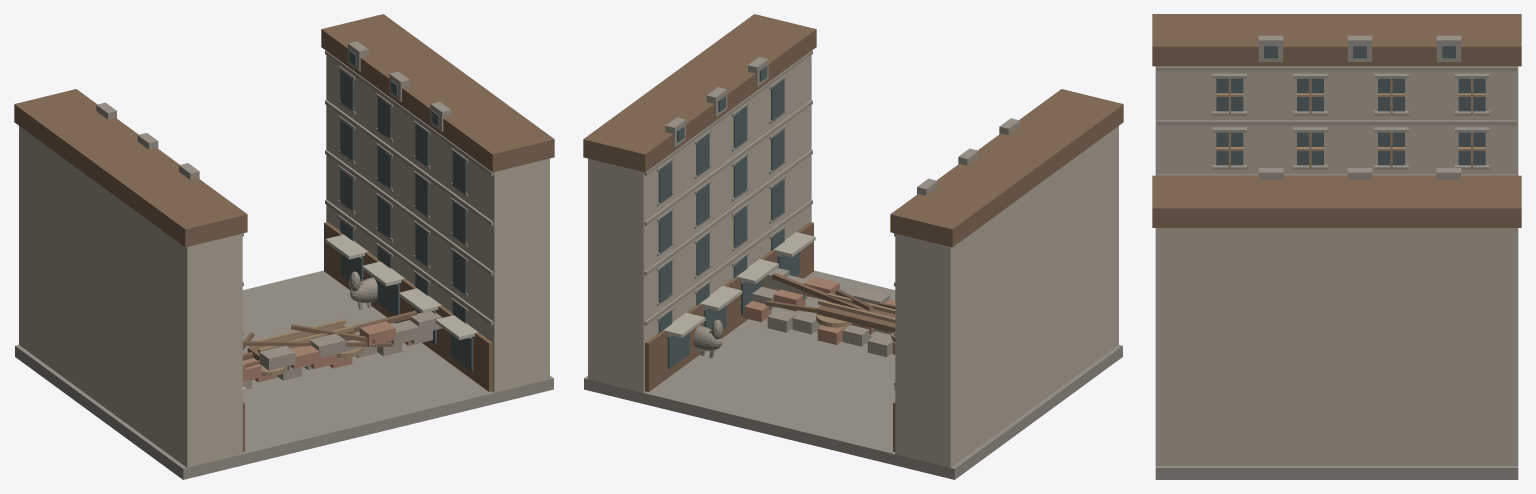
The model's file is paris_1848_street.glb.
3 renders of one model, left to right at view 1: azimuth 30°, elevation 25°; view 2: azimuth 150°, elevation 25°; view 3: azimuth 270°, elevation 25°, orthographic. The views are drawn at different scales.
Visible parts, largest first — view 1: geometry_0; view 2: geometry_0; view 3: geometry_0.
Boxes of the visible parts, bbox=[...] form: geometry_0: bbox=[14, 14, 554, 479]; geometry_0: bbox=[583, 14, 1123, 479]; geometry_0: bbox=[1152, 14, 1521, 479].
Size of the model in its own units: 14 by 9.31 by 11.2.
